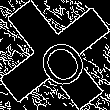O_NW: (23, 22, 87, 88)
